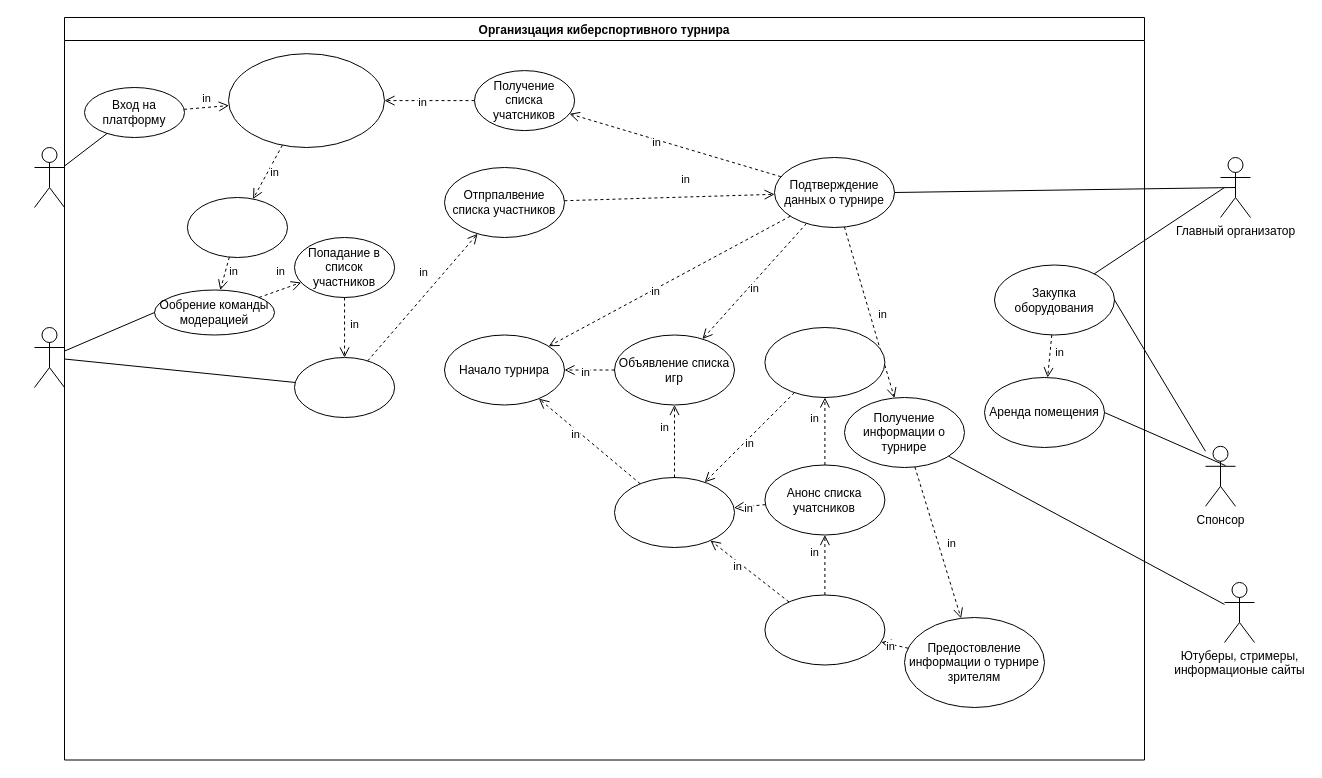
This 1322x778 diagram has some shape labels left out. Each missing label, with the box of its shape:
Анонс турнира: (764, 594, 885, 665)
Модерация: (34, 326, 64, 388)
Объявление даты турнира: (614, 476, 734, 548)
Объявление призового фонда: (764, 326, 885, 398)
Регистрация капитанов, через соответствуйщие игровые профили: (228, 53, 384, 148)
регистрация команды и участников: (186, 196, 288, 258)
Создание списка учатсников: (294, 356, 395, 418)
Участники: (34, 146, 64, 208)
